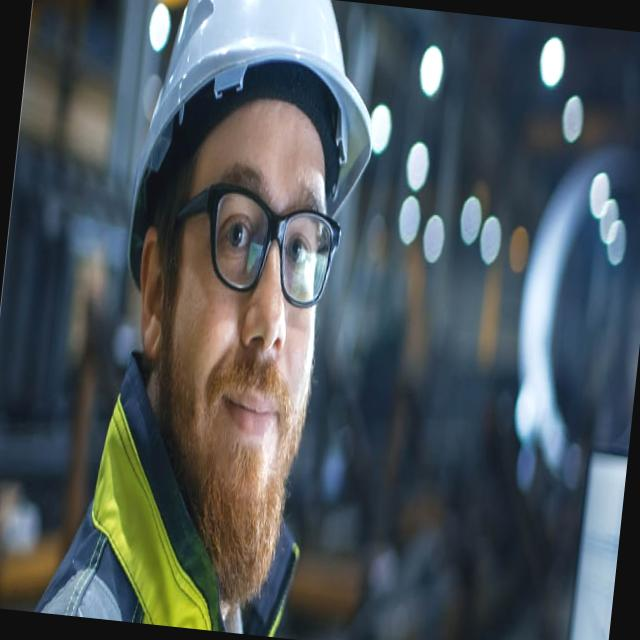goggles: (158, 166, 352, 345)
helmet: (123, 0, 388, 210)
no-vest: (28, 506, 302, 638)
